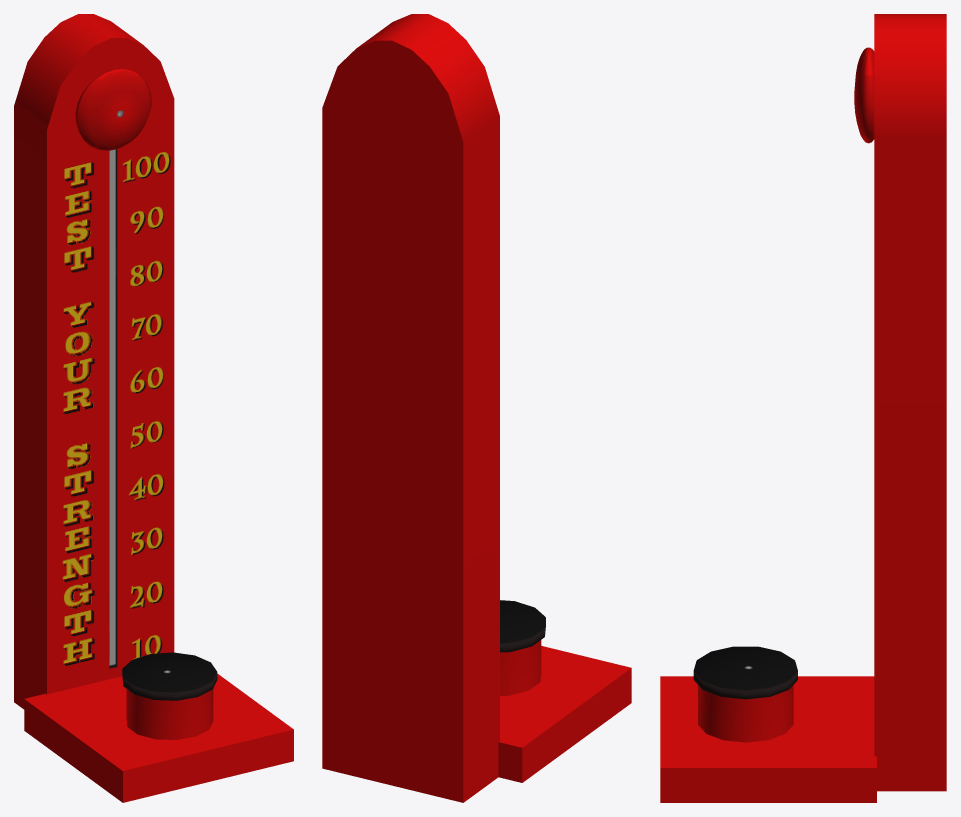
File: strength_test.fbx
The picture shows the model from 3 angles, left to right: view 1: azimuth 30°, elevation 25°; view 2: azimuth 150°, elevation 25°; view 3: azimuth 270°, elevation 25°; orthographic projection. The views are drawn at different scales.
Visible parts, largest first — view 1: polySurface1; view 2: polySurface1; view 3: polySurface1.
Boxes of the visible parts, x1,y1,x2,y2 form: polySurface1: [14, 14, 293, 802]; polySurface1: [322, 14, 631, 802]; polySurface1: [660, 14, 946, 802].
Bounding box in the file's own units: 45 × 169 × 59.44.
Materials: 1 (1 with a texture image).
